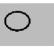no answer: (3, 9, 33, 34)
